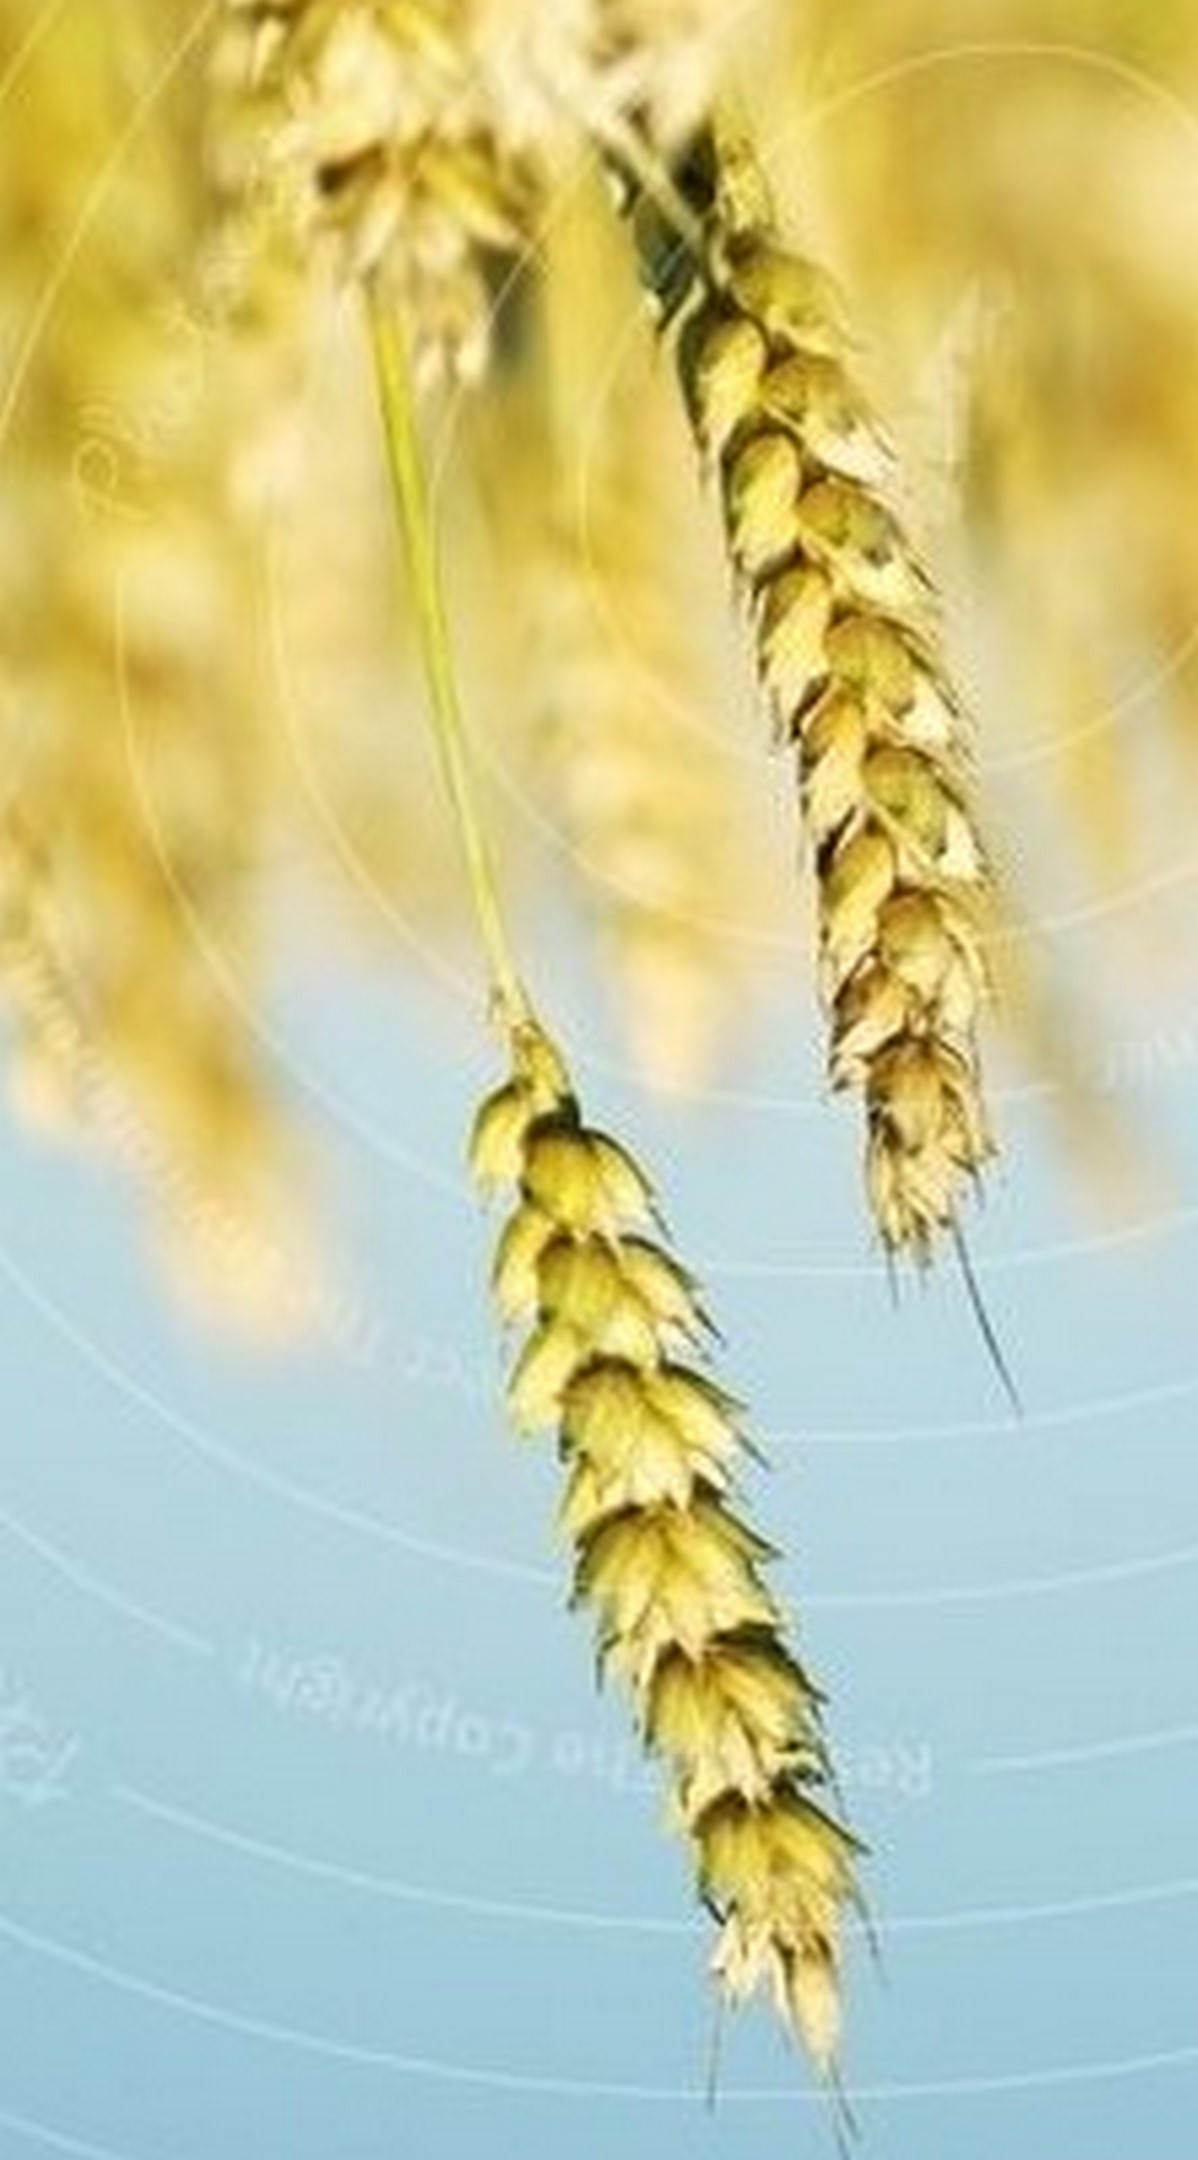Healthy Wheat: (437, 1022, 968, 2138)
